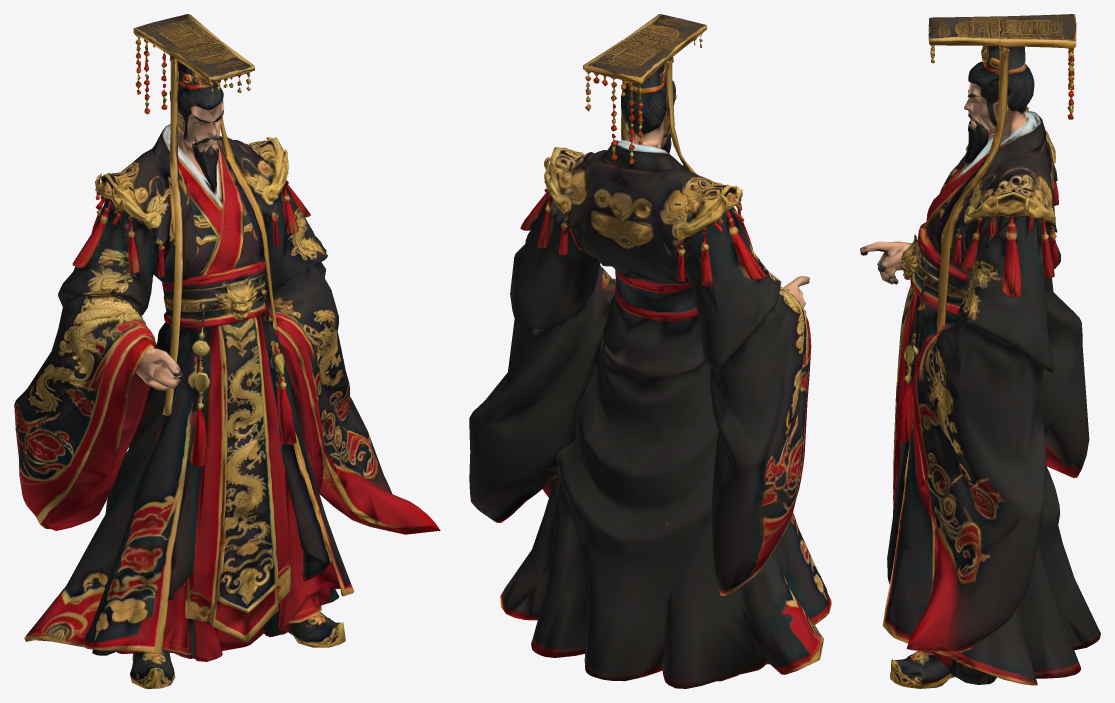
Rendered from tuong_blue.glb.
3 views of the same model, side by side, from view 1: azimuth 30°, elevation 25°; view 2: azimuth 150°, elevation 25°; view 3: azimuth 270°, elevation 25° (orthographic). The views are drawn at different scales.
Visible parts, largest first — view 1: XiangqiPiece; view 2: XiangqiPiece; view 3: XiangqiPiece.
Part boxes in pixels (x1,y1,x2,y2): XiangqiPiece: (14, 14, 440, 688); XiangqiPiece: (469, 14, 831, 688); XiangqiPiece: (860, 14, 1100, 688).
Size of the model in its own units: 0.7348 by 1.12 by 0.4008.
1 material, 1 textured.
